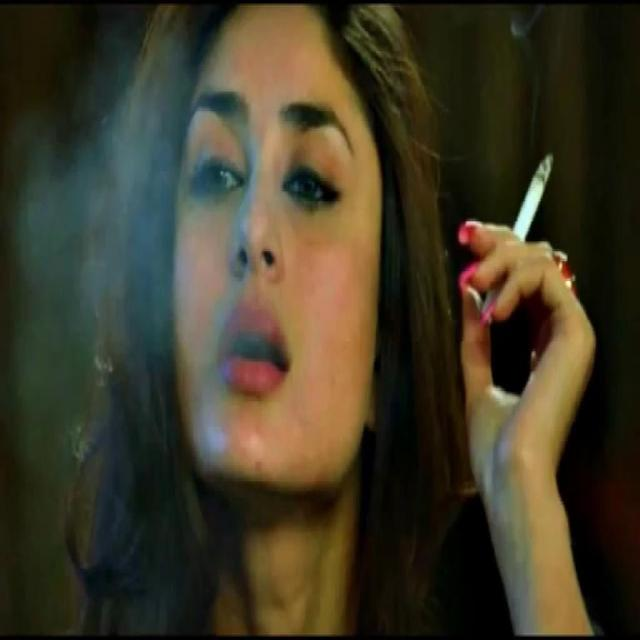smoking: (442, 129, 566, 360)
